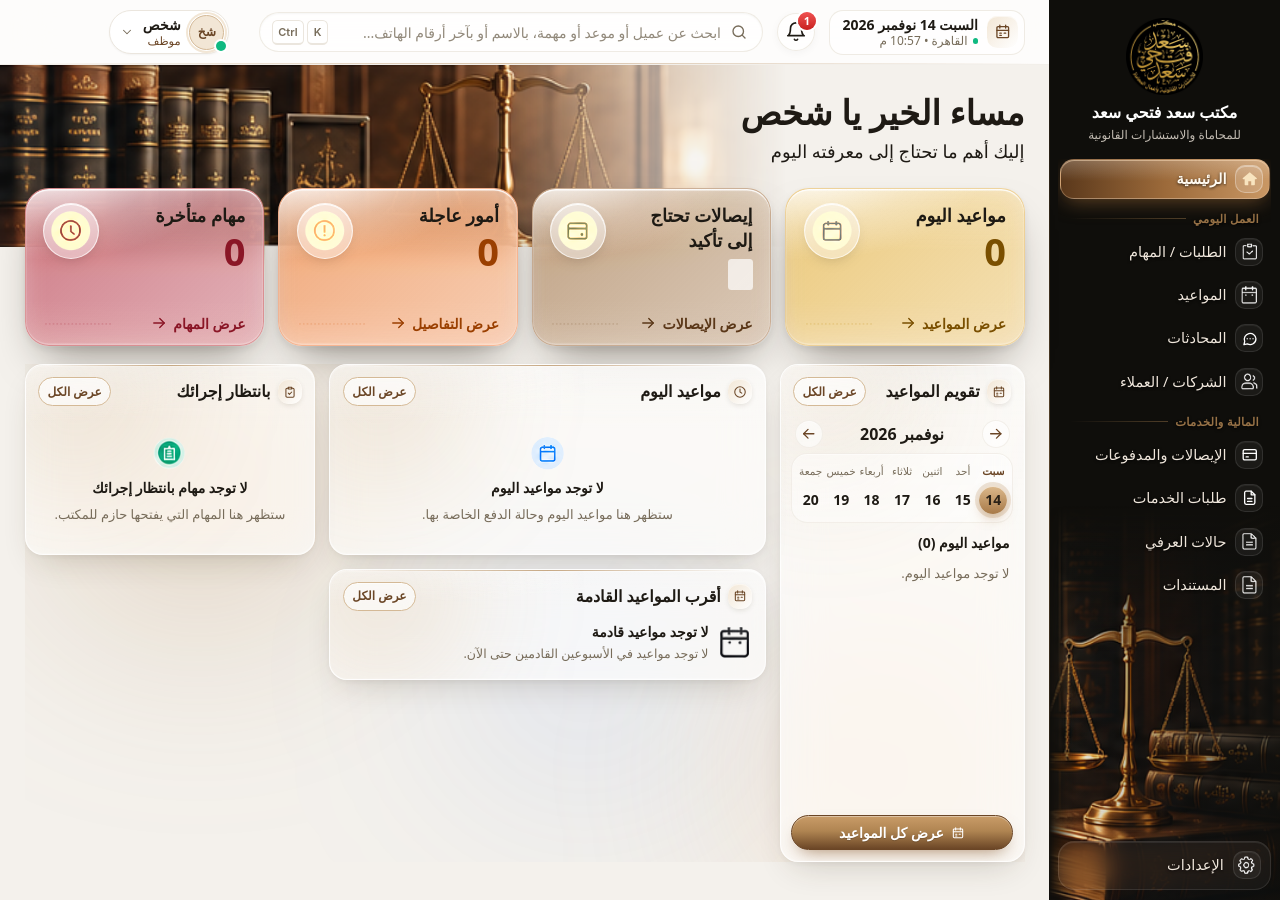
Test case: v1.106 every page at once › v1.111: a receipt waiting is in the bell with what it pays for and its client
Click the button named "تنبيه جديد" at (796, 32), box [777, 13, 815, 51]
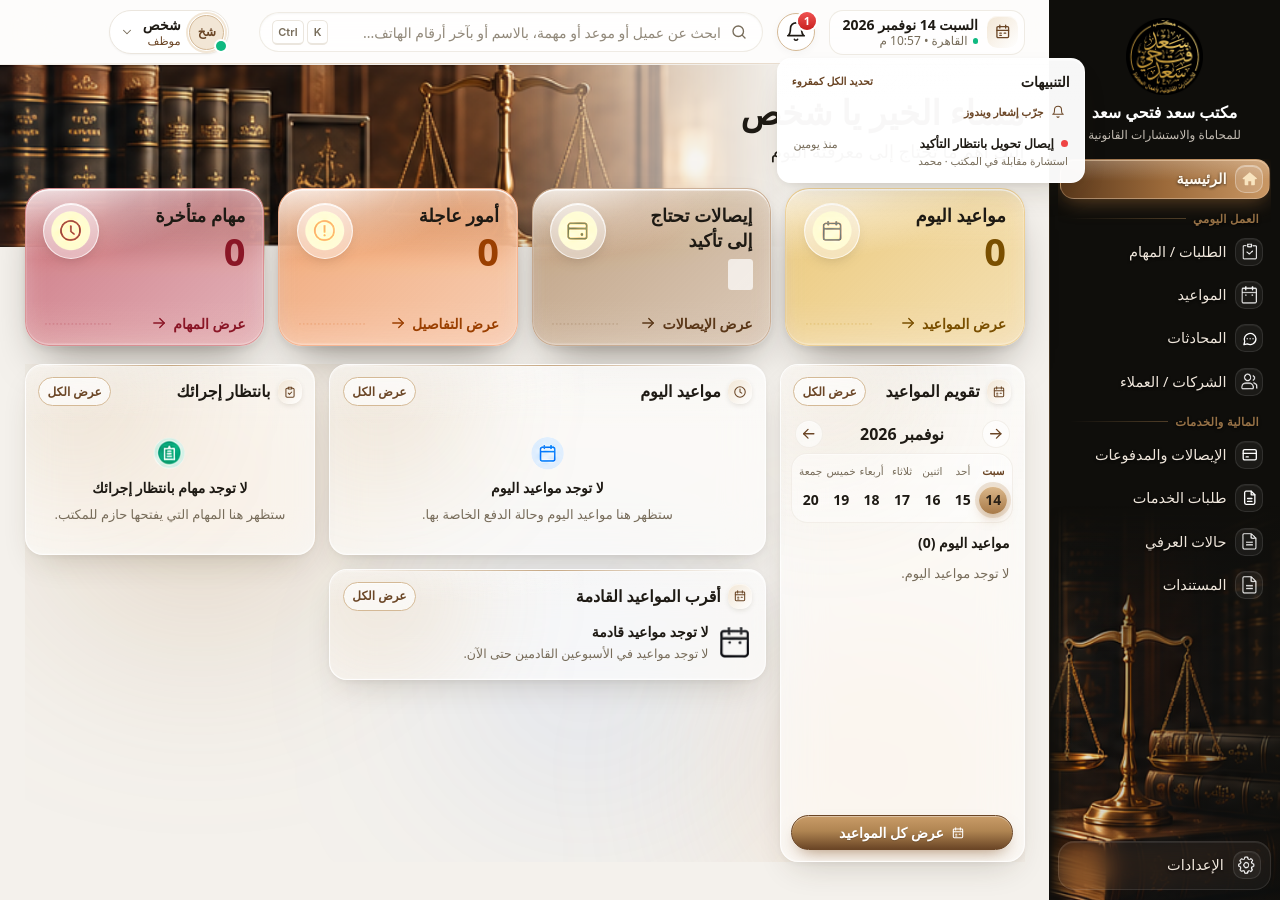
Check: the button that starts with "إيصال تحويل بانتظار التأكيد" is shown, box [785, 128, 1077, 175]
Check: the button that starts with "إيصال تحويل بانتظار التأكيد" shows "استشارة مقابلة في المكتب · محمد", box [785, 128, 1077, 175]
